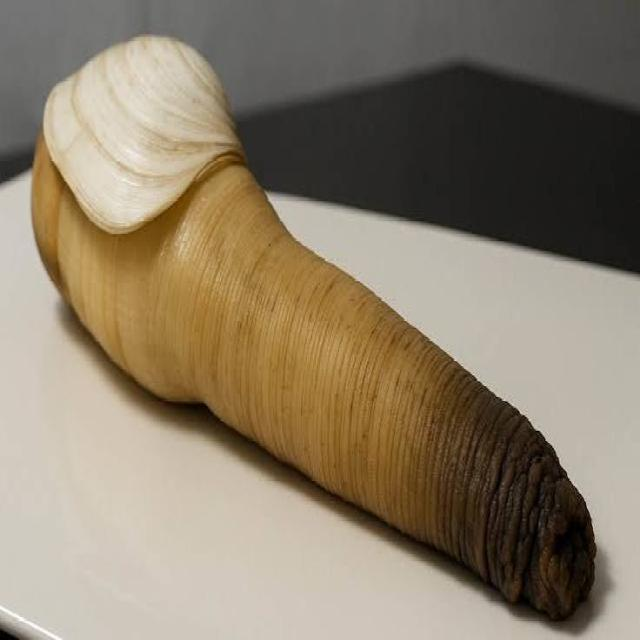korean_geoduck_clam: (20, 9, 623, 636)
